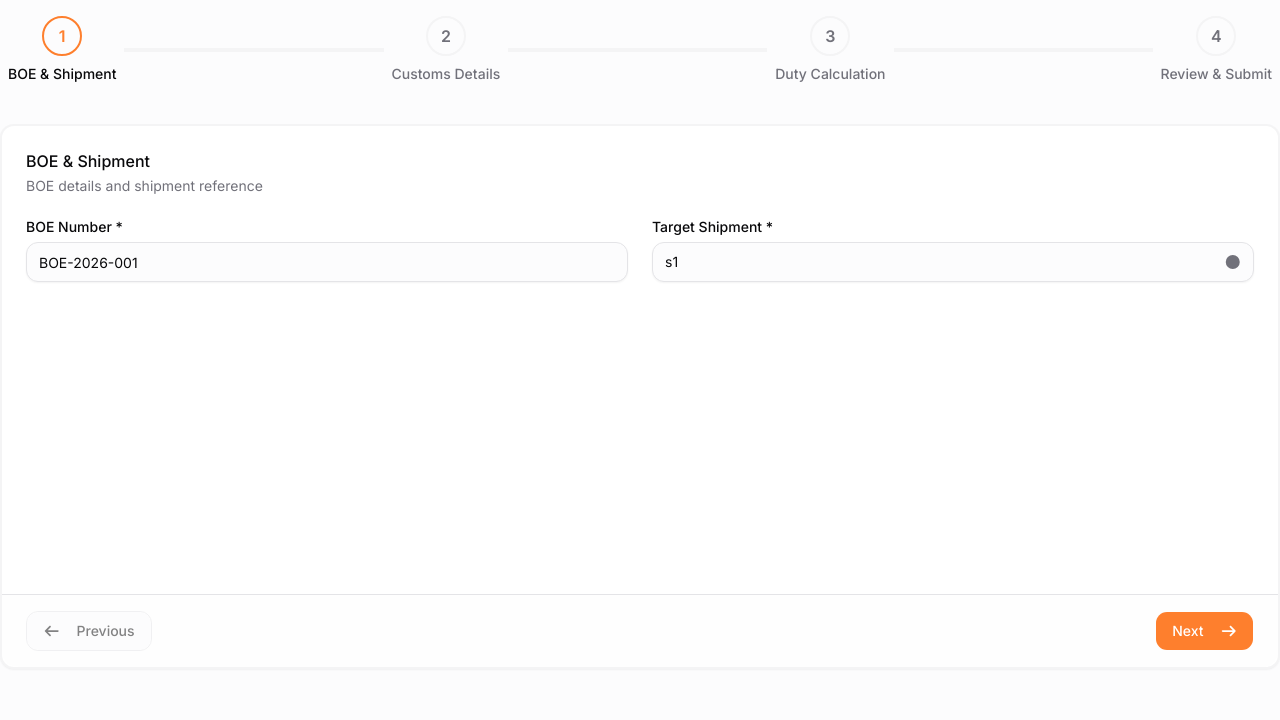
it: BOEForm › can navigate to next steps and fill data
Note: Fill BOE Number
Replace the text in the field labelled "BOE Number *" with "BOE-TEST-001": (327, 262) [26,242,628,282]
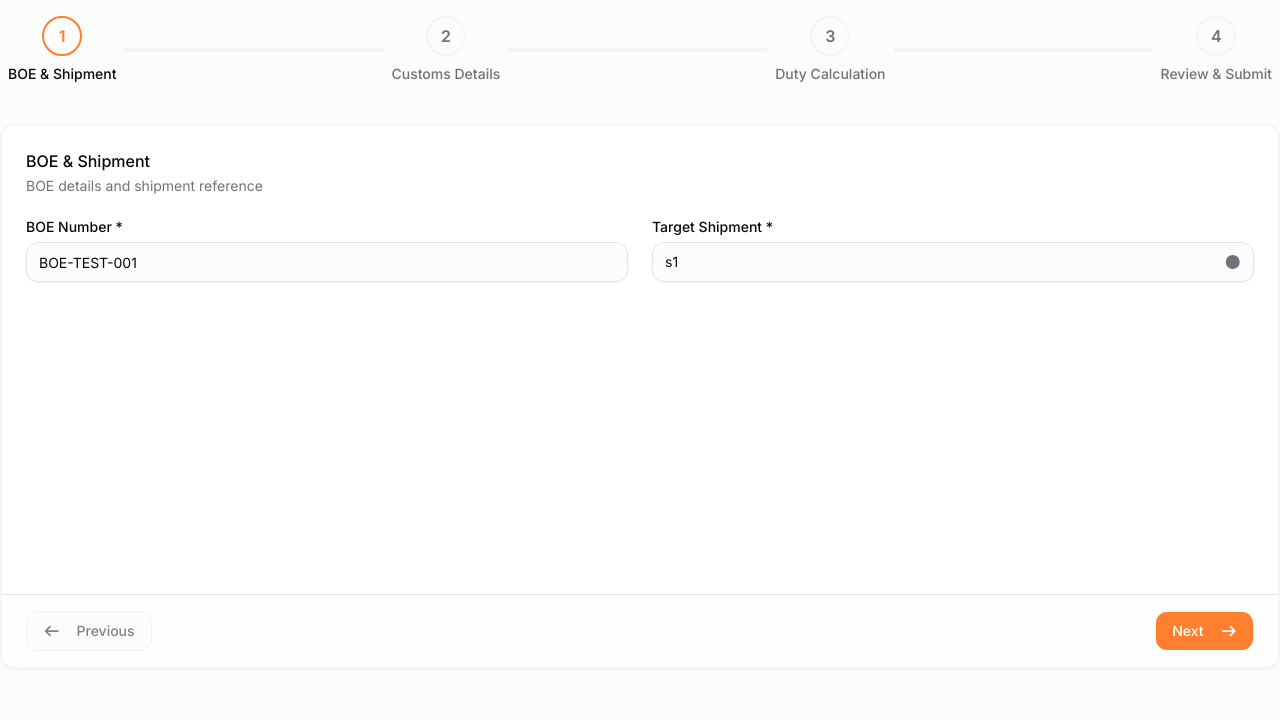
Note: Click Next to Step 2
Click the button "Next": (1205, 631) [1155,611,1254,651]
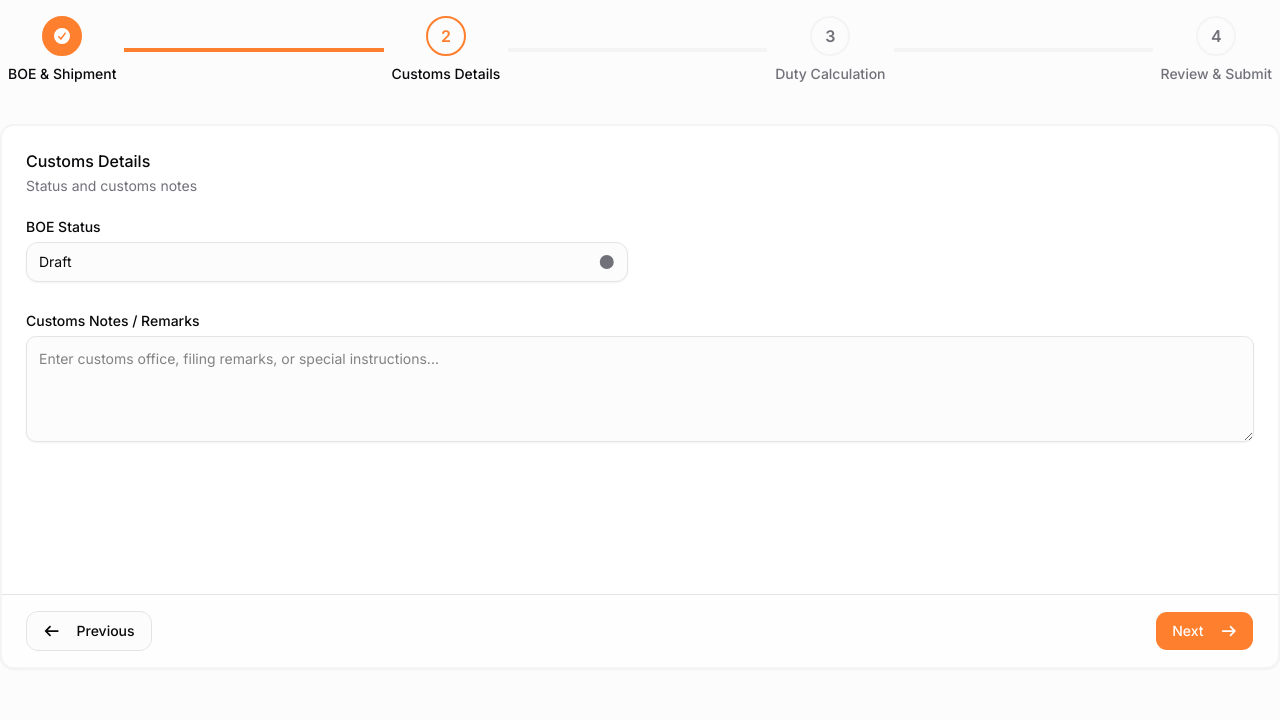
Now the text "BOE Status" is shown, box [26,218,101,235]
